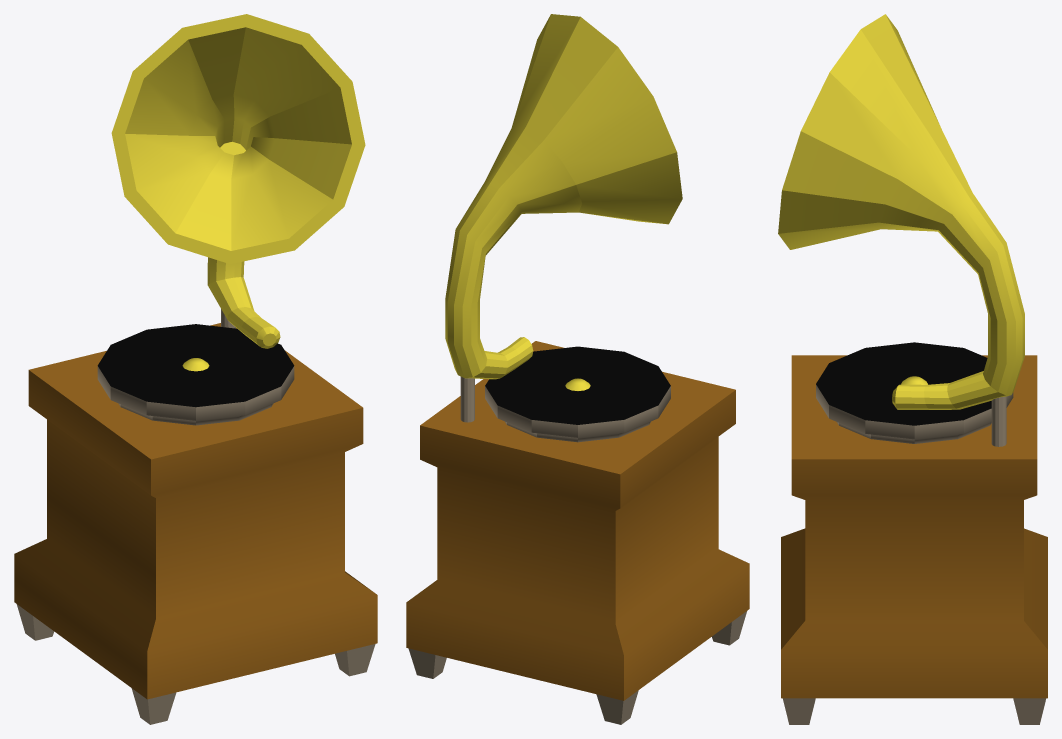
The model's file is Gramophone02.fbx.
The picture shows the model from 3 angles, left to right: view 1: azimuth 30°, elevation 25°; view 2: azimuth 150°, elevation 25°; view 3: azimuth 270°, elevation 25°; orthographic projection. The views are drawn at different scales.
Parts seen in each view (by area): view 1: polySurface2; view 2: polySurface2; view 3: polySurface2.
Boxes of the visible parts, left/top/right/bottom form: polySurface2: left=14, top=14, right=377, bottom=724; polySurface2: left=406, top=14, right=749, bottom=724; polySurface2: left=778, top=14, right=1047, bottom=724.
Size of the model in its own units: 101 by 273 by 102.
1 material, 1 textured.
